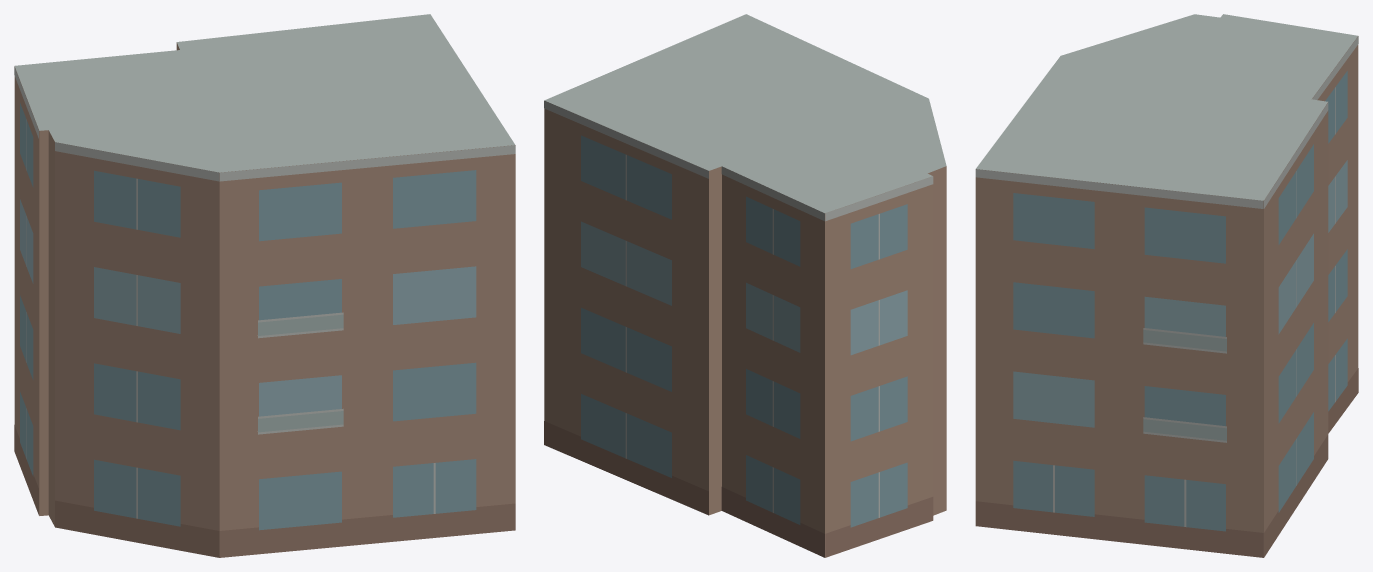
Rendered from survey-upis-33007650.glb.
3 views of the same model, side by side, from view 1: azimuth 30°, elevation 25°; view 2: azimuth 150°, elevation 25°; view 3: azimuth 270°, elevation 25° (orthographic). The views are drawn at different scales.
Parts seen in each view (by area): view 1: survey-upis-33007650.tmp; view 2: survey-upis-33007650.tmp; view 3: survey-upis-33007650.tmp.
Part boxes in pixels (x1,y1,x2,y2): survey-upis-33007650.tmp: (14,14,515,557); survey-upis-33007650.tmp: (544,14,946,557); survey-upis-33007650.tmp: (975,14,1358,557).
Size of the model in its own units: 11.73 by 10.45 by 10.16.
